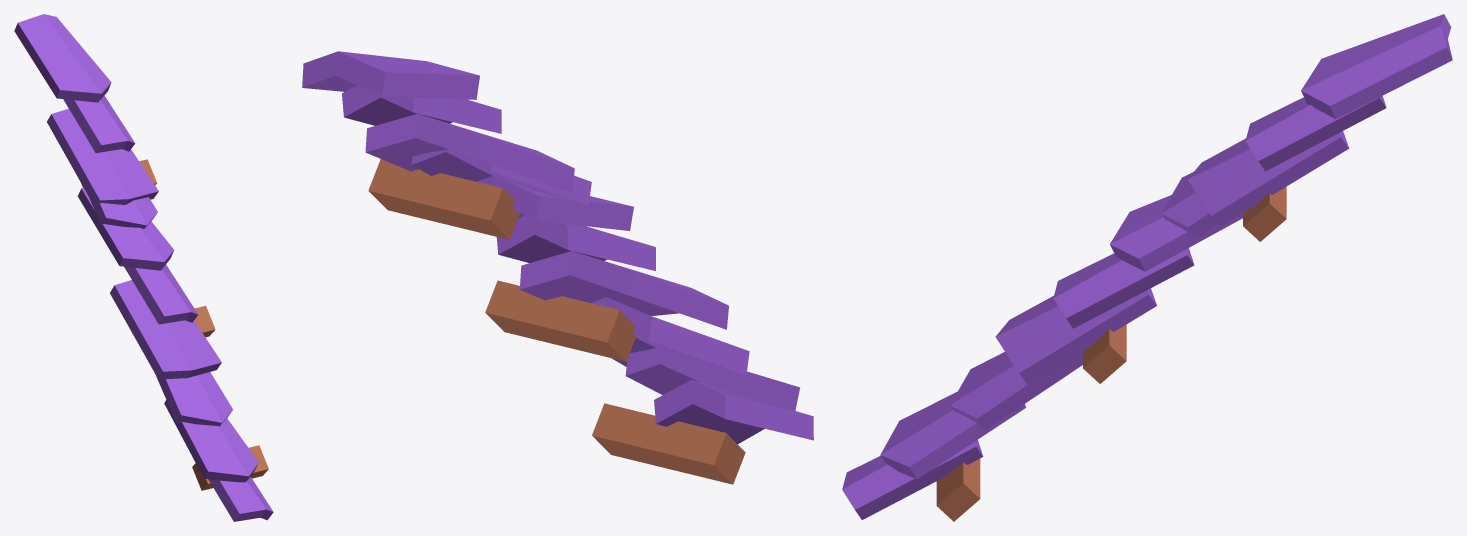
The model's file is Roof 02 Finish Side 01.fbx.
The picture shows the model from 3 angles, left to right: view 1: azimuth 30°, elevation 25°; view 2: azimuth 150°, elevation 25°; view 3: azimuth 270°, elevation 25°; orthographic projection. The views are drawn at different scales.
Parts seen in each view (by area): view 1: Roof 02 Finish Side 01; view 2: Roof 02 Finish Side 01; view 3: Roof 02 Finish Side 01.
Part boxes in pixels (x1,y1,x2,y2): Roof 02 Finish Side 01: [14, 14, 273, 521]; Roof 02 Finish Side 01: [302, 51, 813, 484]; Roof 02 Finish Side 01: [842, 14, 1452, 521].
Bounding box in the file's own units: 92.4 × 382 × 435.
